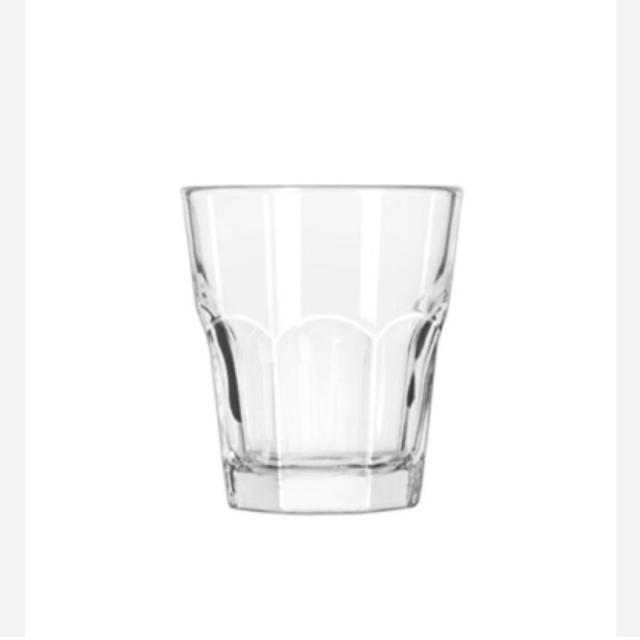recyclable: (151, 162, 504, 534)
